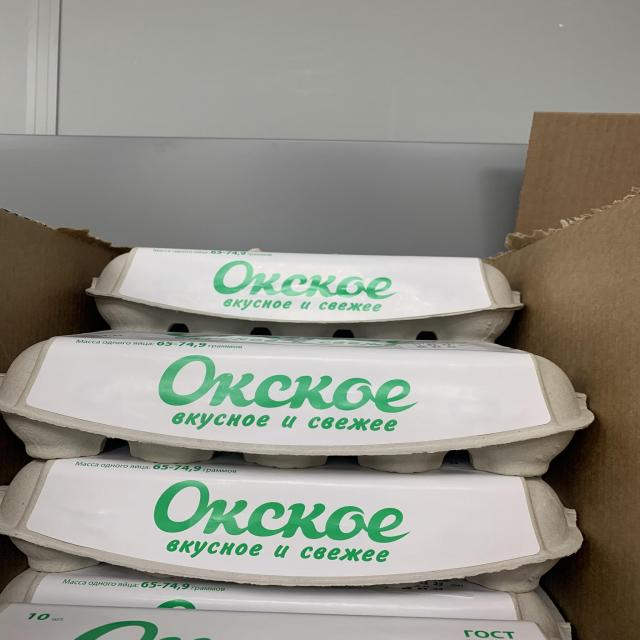organic waste: (1, 333, 595, 471), (3, 464, 586, 590), (81, 245, 525, 341), (1, 602, 576, 640)
